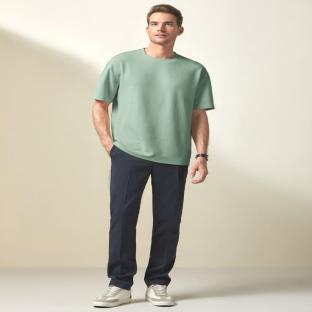Human: (92, 4, 214, 306)
